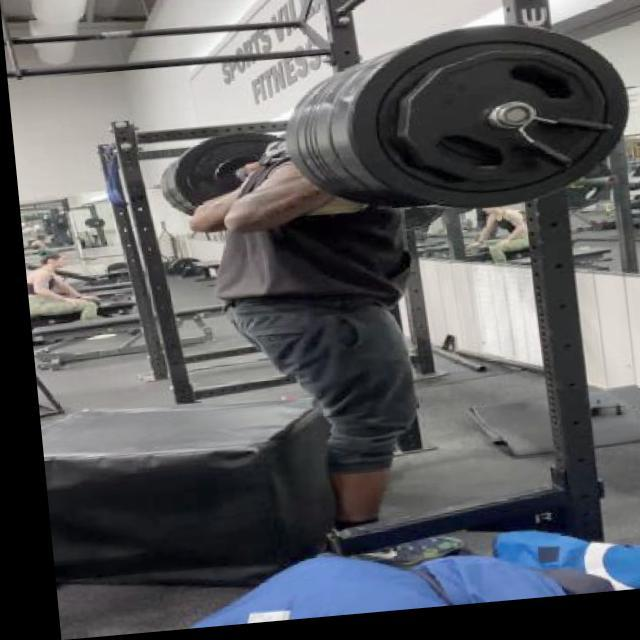barbell: (336, 22, 637, 229)
